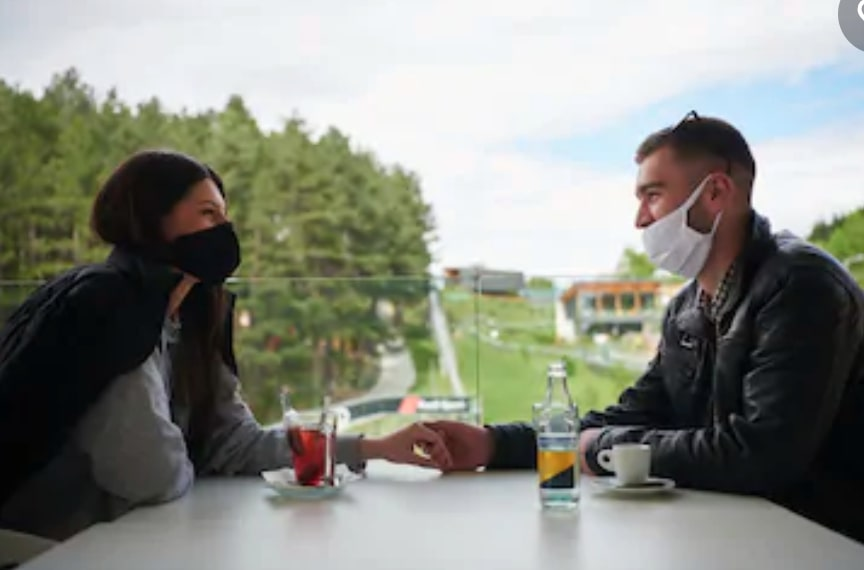Bad: (72, 111, 831, 502)
